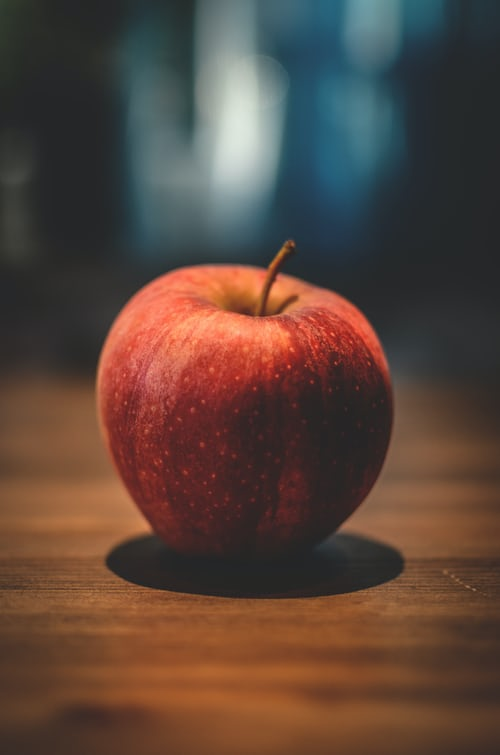apple: (93, 237, 399, 568)
